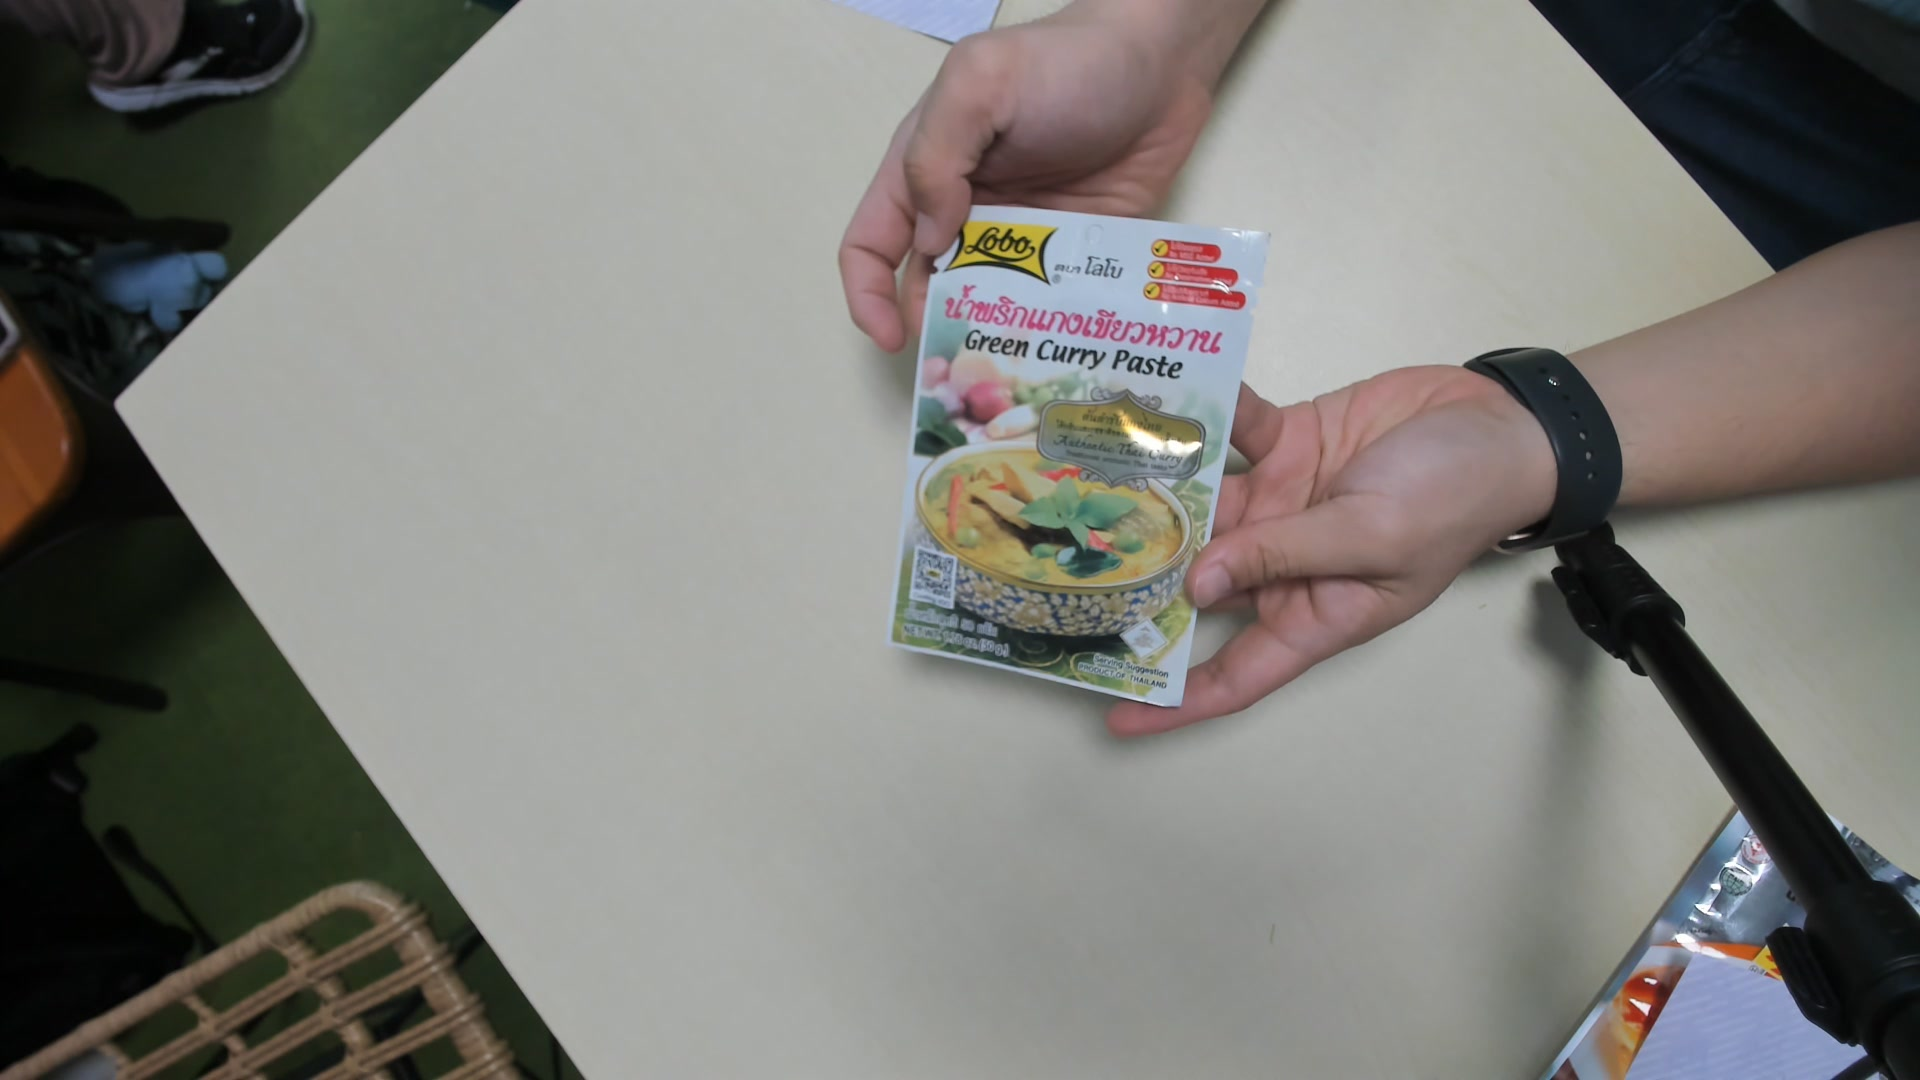CurryPastePowderSauce_0-99g_Halal_NonHealthy: (891, 203, 1261, 709)
